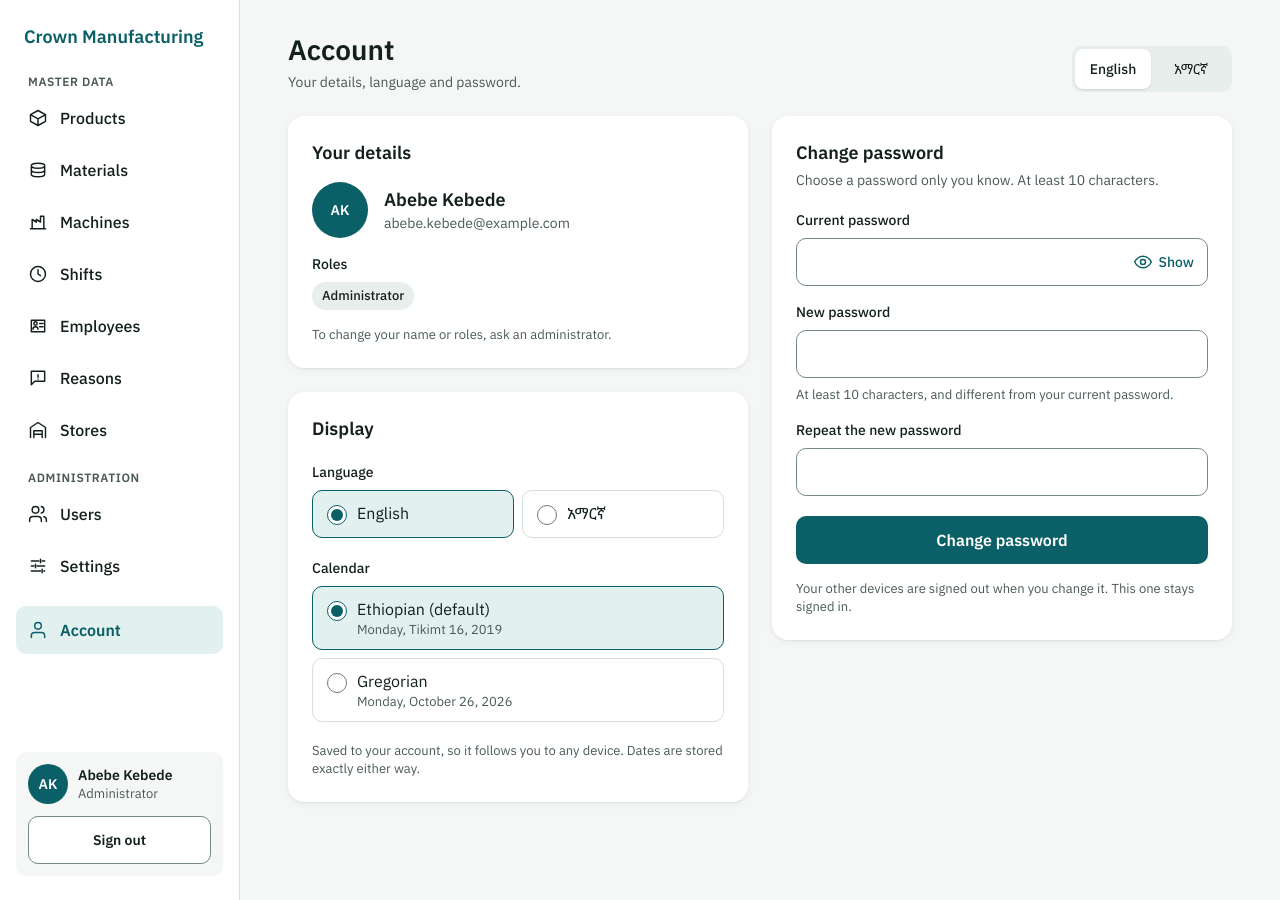
Scenario: Account page › changes the language from the Display card
The width and height of the screenshot is (1280, 900).
Expected: the heading "Account" is shown, [288,31,394,68]
Click the radio button labelled "አማርኛ" at x=547, y=515, box [537,505,557,525]
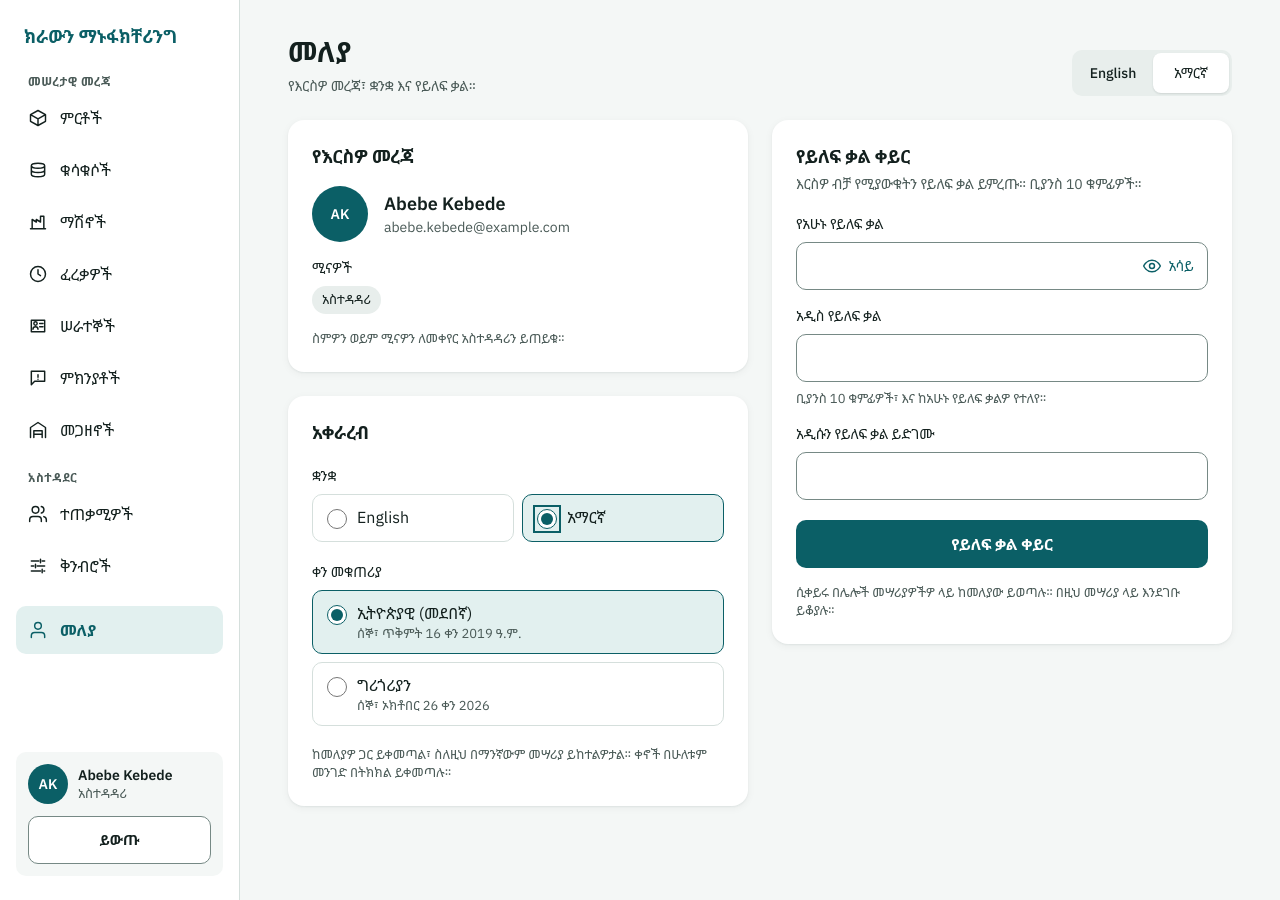
Now the radio button labelled "አማርኛ" is checked, box [537,509,557,529]
Now the heading "መለያ" is shown, box [288,33,351,70]
